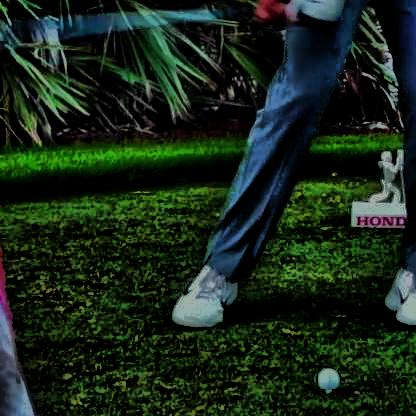golfball: (315, 365, 338, 389)
